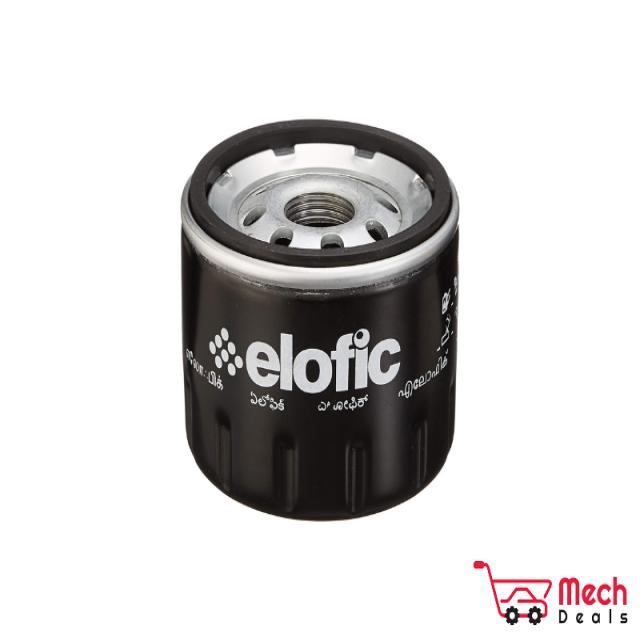oil_filter: (172, 116, 478, 535)
